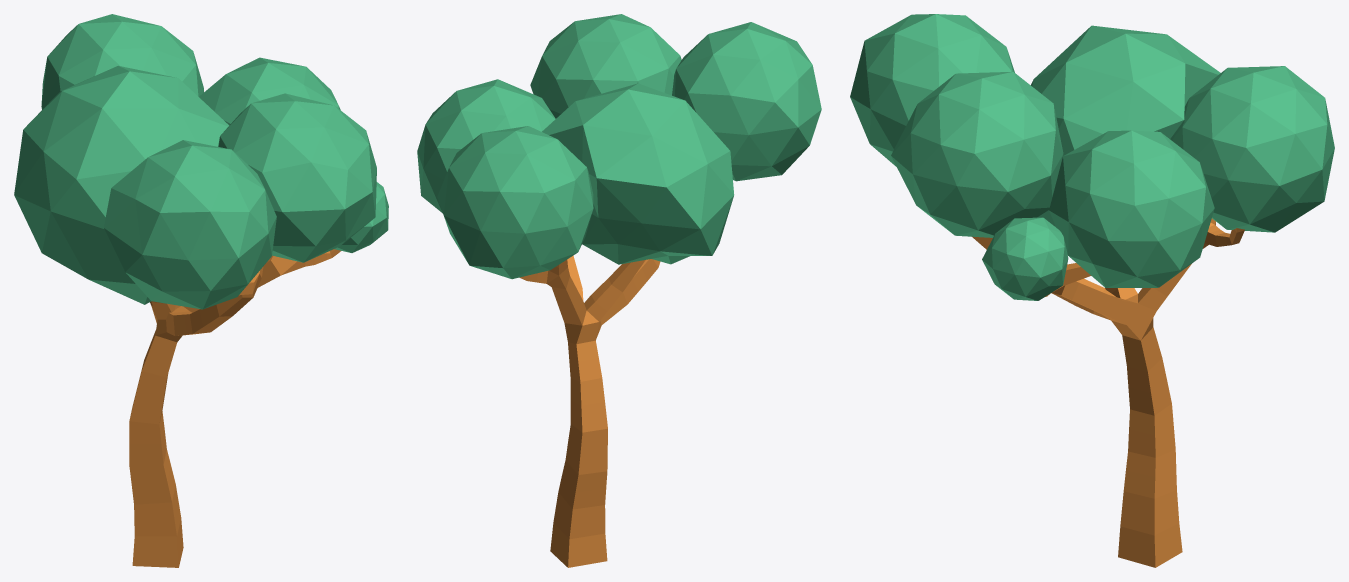
The model's file is Tree Low Poly 2.fbx.
3 renders of one model, left to right at view 1: azimuth 30°, elevation 25°; view 2: azimuth 150°, elevation 25°; view 3: azimuth 270°, elevation 25°, orthographic. The views are drawn at different scales.
Visible parts, largest first — view 1: Icosphere.002, Icosphere.006, Icosphere, Plane, Icosphere.003, Icosphere.004, Icosphere.005; view 2: Icosphere.002, Icosphere.003, Icosphere.006, Plane, Icosphere, Icosphere.004; view 3: Icosphere, Icosphere.004, Icosphere.003, Plane, Icosphere.002, Icosphere.006, Icosphere.005.
Part boxes in pixels (x1,y1,x2,y2): Icosphere.002: (14,65,229,304); Icosphere.006: (104,140,276,309); Icosphere: (218,93,376,262); Plane: (129,249,340,567); Icosphere.003: (41,14,203,109); Icosphere.004: (199,57,340,125); Icosphere.005: (334,182,388,252); Icosphere.002: (542,83,734,264); Icosphere.003: (437,126,593,279); Icosphere.006: (672,22,821,181); Plane: (519,255,660,567); Icosphere: (530,14,681,118); Icosphere.004: (417,79,555,213); Icosphere: (891,71,1063,237); Icosphere.004: (1049,130,1214,287); Icosphere.003: (1172,66,1334,232); Plane: (972,218,1244,567); Icosphere.002: (1031,25,1220,226); Icosphere.006: (850,14,1014,166); Icosphere.005: (982,217,1068,300).
Bounding box in the file's own units: 597 × 917 × 798.
